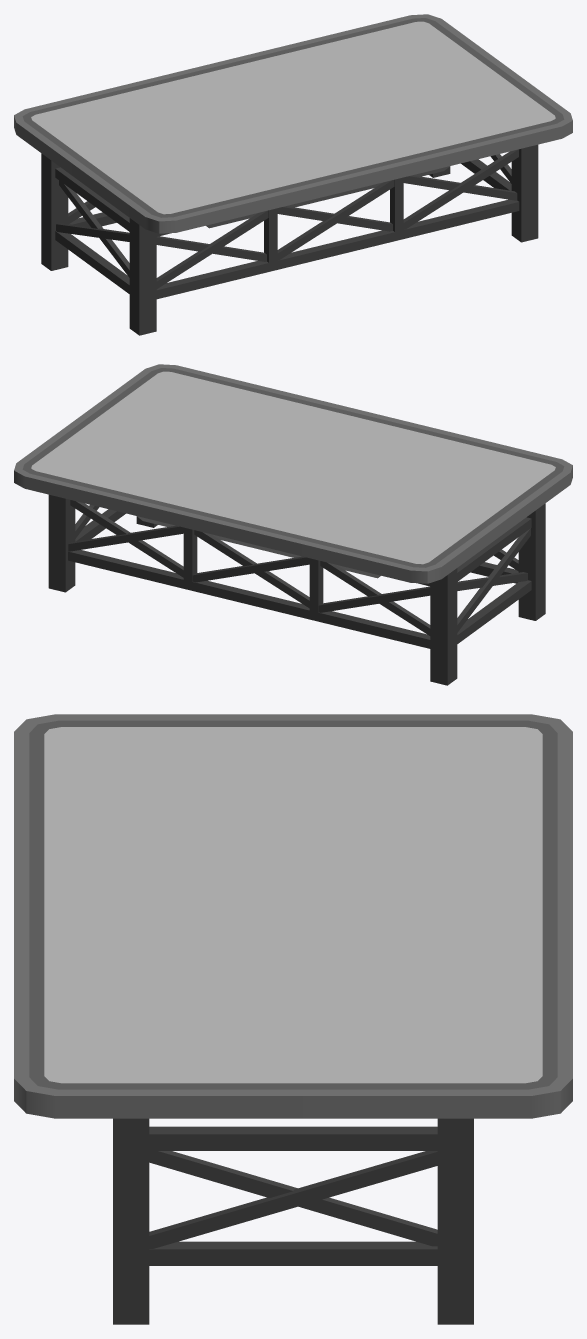
Rendered from platform_001.fbx.
3 renders of one model, top to bottom at view 1: azimuth 30°, elevation 25°; view 2: azimuth 150°, elevation 25°; view 3: azimuth 270°, elevation 25°, orthographic. The views are drawn at different scales.
Visible parts, largest first — view 1: platform_001; view 2: platform_001; view 3: platform_001.
Boxes of the visible parts, x1,y1,x2,y2 form: platform_001: [14, 14, 572, 335]; platform_001: [14, 364, 572, 685]; platform_001: [14, 714, 572, 1324].
Size of the model in its own units: 557 by 344 by 166.
